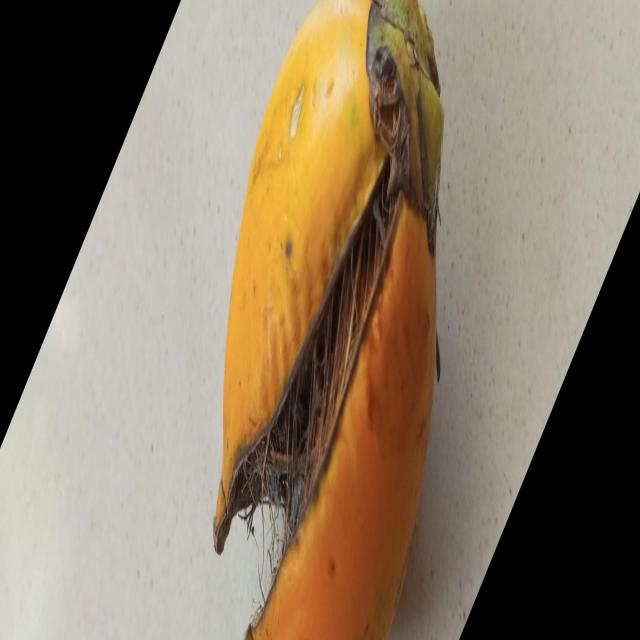damaged: (213, 0, 443, 640)
